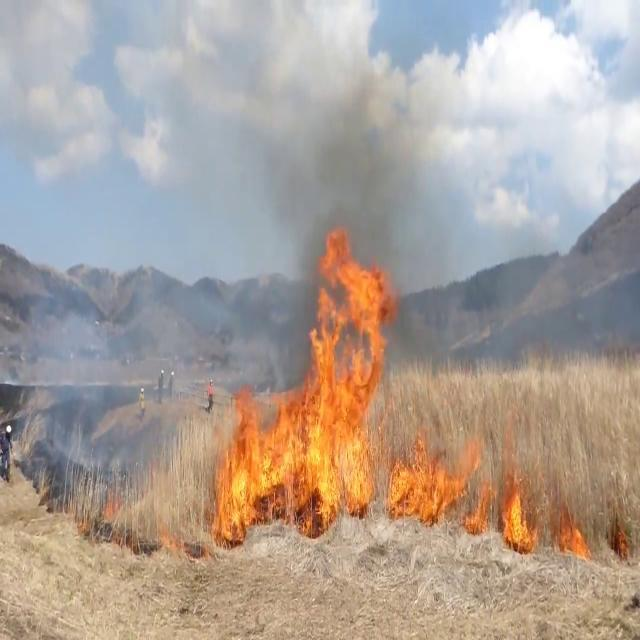Fire: (212, 220, 404, 529), (384, 400, 471, 534), (502, 482, 534, 552), (556, 511, 592, 561)
Smoke: (219, 25, 461, 294), (10, 268, 150, 496)
